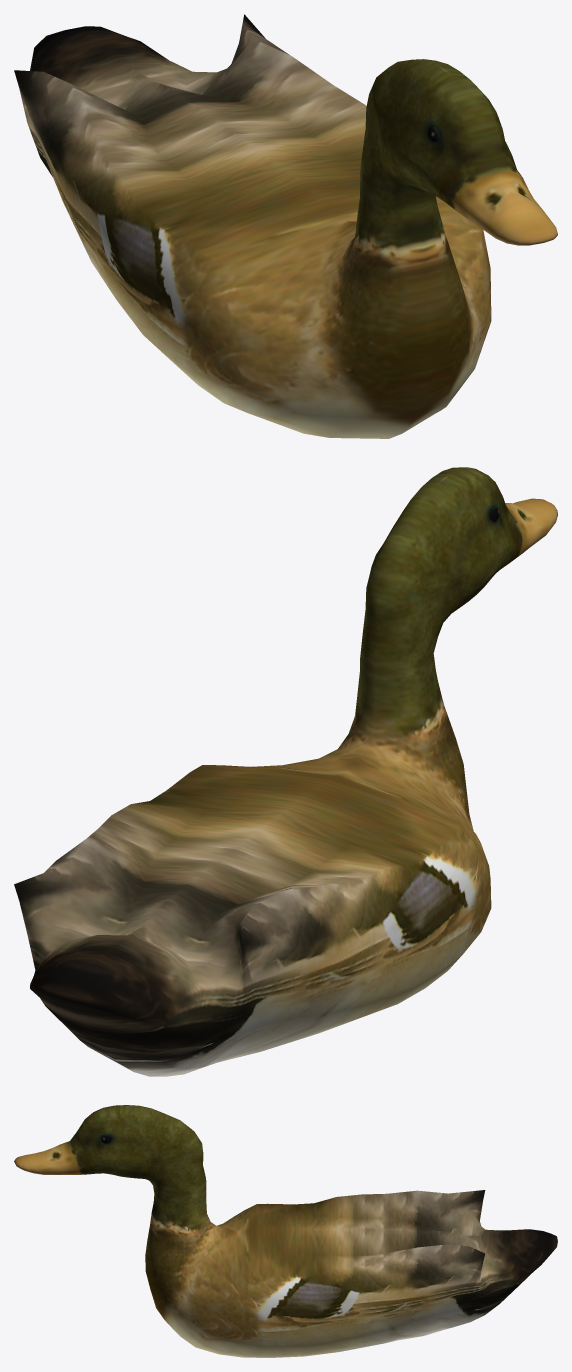
File: Duck.fbx
The picture shows the model from 3 angles, top to bottom: view 1: azimuth 30°, elevation 25°; view 2: azimuth 150°, elevation 25°; view 3: azimuth 270°, elevation 25°; orthographic projection. The views are drawn at different scales.
Parts seen in each view (by area): view 1: duck_Figur; view 2: duck_Figur; view 3: duck_Figur.
Boxes of the visible parts, box(x1,y1,x2,y2) form: duck_Figur: box(14, 14, 557, 438); duck_Figur: box(14, 467, 557, 1076); duck_Figur: box(14, 1105, 557, 1357).
Bounding box in the file's own units: 33.8 × 46.41 × 94.99.
Materials: 1 (1 with a texture image).
